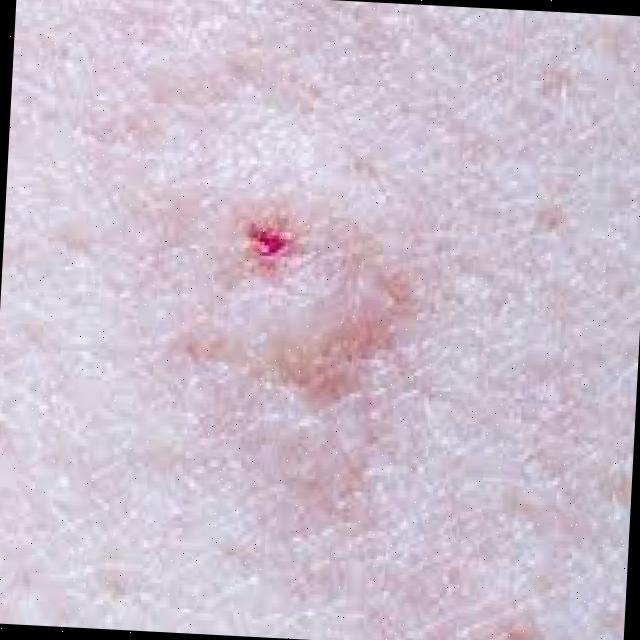kene: (147, 158, 426, 417)
